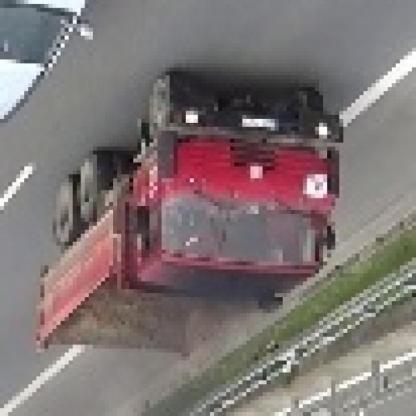truck: (29, 69, 336, 366)
